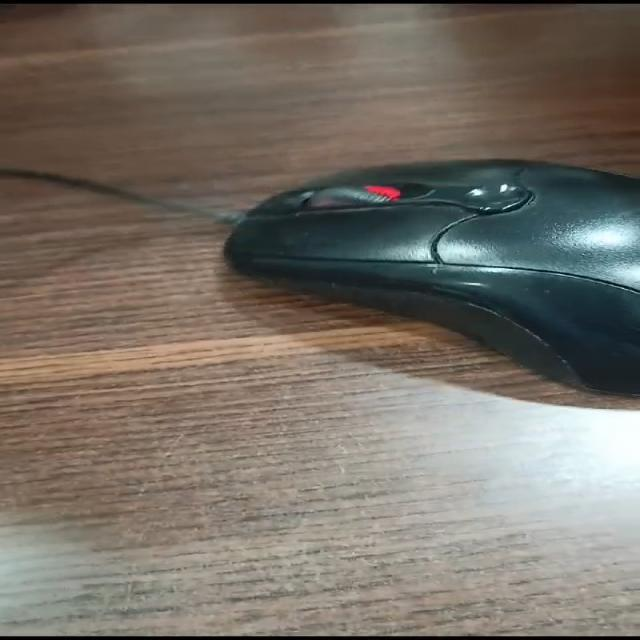Mouse: (166, 108, 640, 434)
